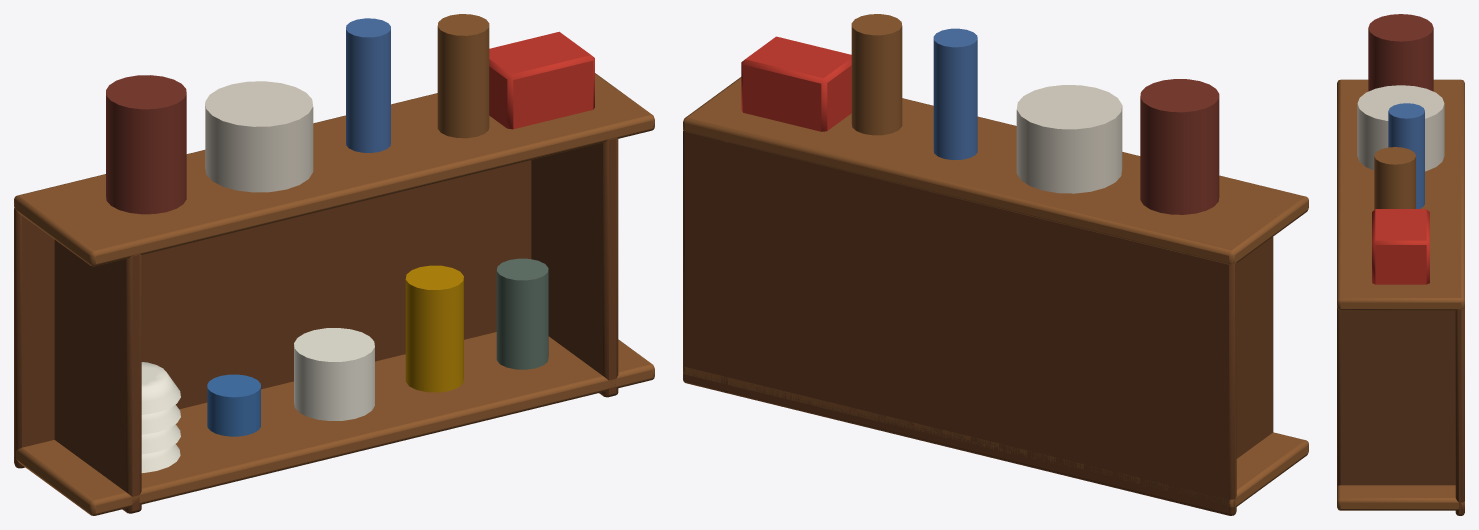
The model's file is KeChenTreoTuong.glb.
3 views of the same model, side by side, from view 1: azimuth 30°, elevation 25°; view 2: azimuth 150°, elevation 25°; view 3: azimuth 270°, elevation 25° (orthographic). The views are drawn at different scales.
Visible parts, largest first — view 1: KeChenTreoTuong; view 2: KeChenTreoTuong; view 3: KeChenTreoTuong.
Part boxes in pixels (left/top/right/bottom): KeChenTreoTuong: left=14, top=14, right=654, bottom=515; KeChenTreoTuong: left=683, top=14, right=1308, bottom=515; KeChenTreoTuong: left=1337, top=14, right=1464, bottom=515.
Bounding box in the file's own units: 0.9 × 0.59 × 0.22.
